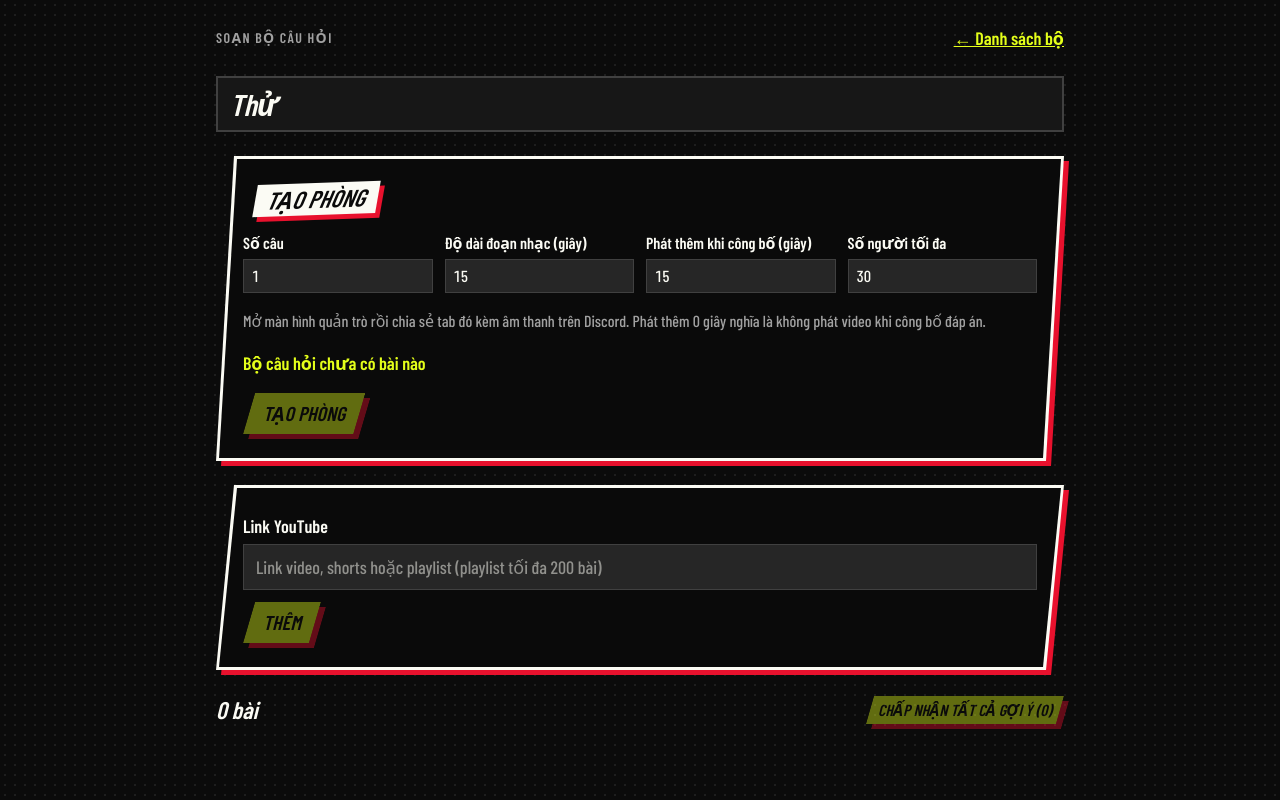
Test: SetEditor › lets the host create a room as soon as some suggestions are accepted
This screenshot has width=1280, height=800.
Type "https://www.youtube.com/playlist?list=PL123" into the field labelled "Link YouTube" at (640, 567), box [243,544,1037,590]
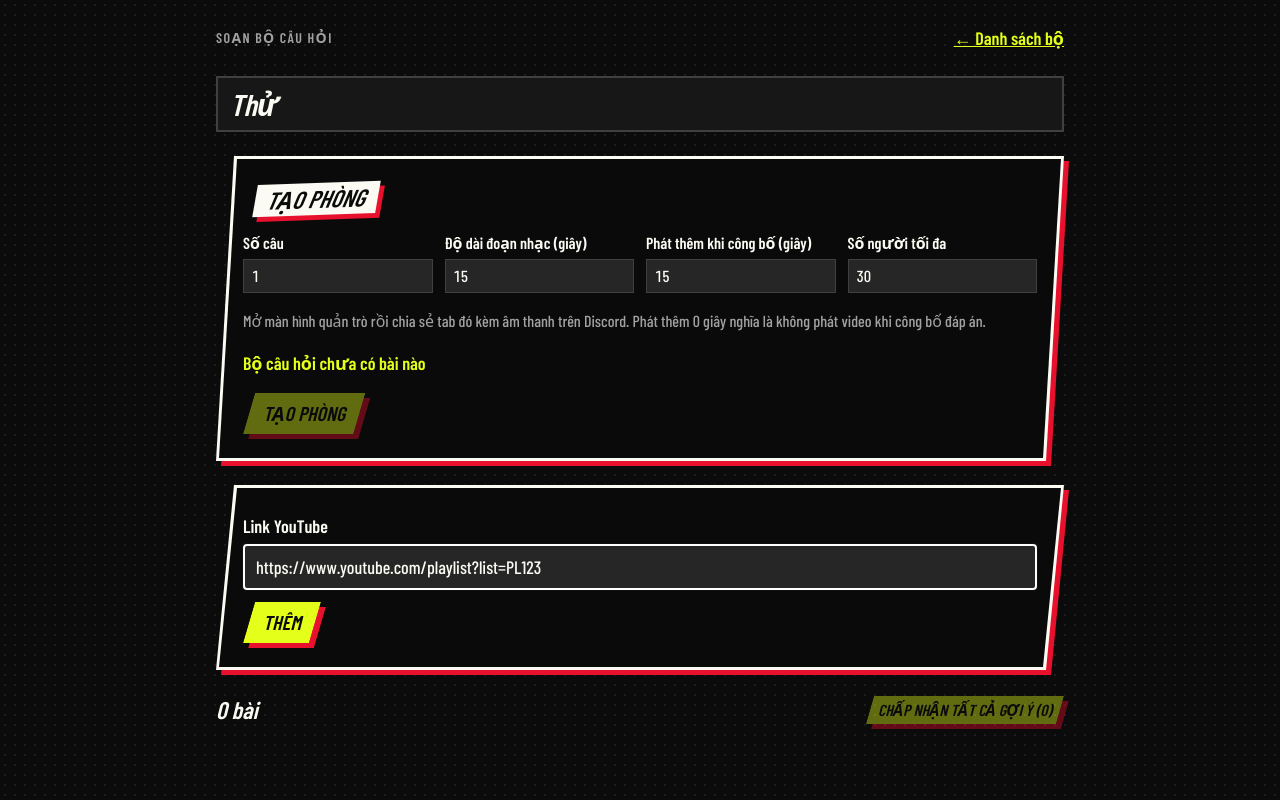
Click the button "Thêm" at (282, 622), box [243,602,321,643]
(page scrolled)
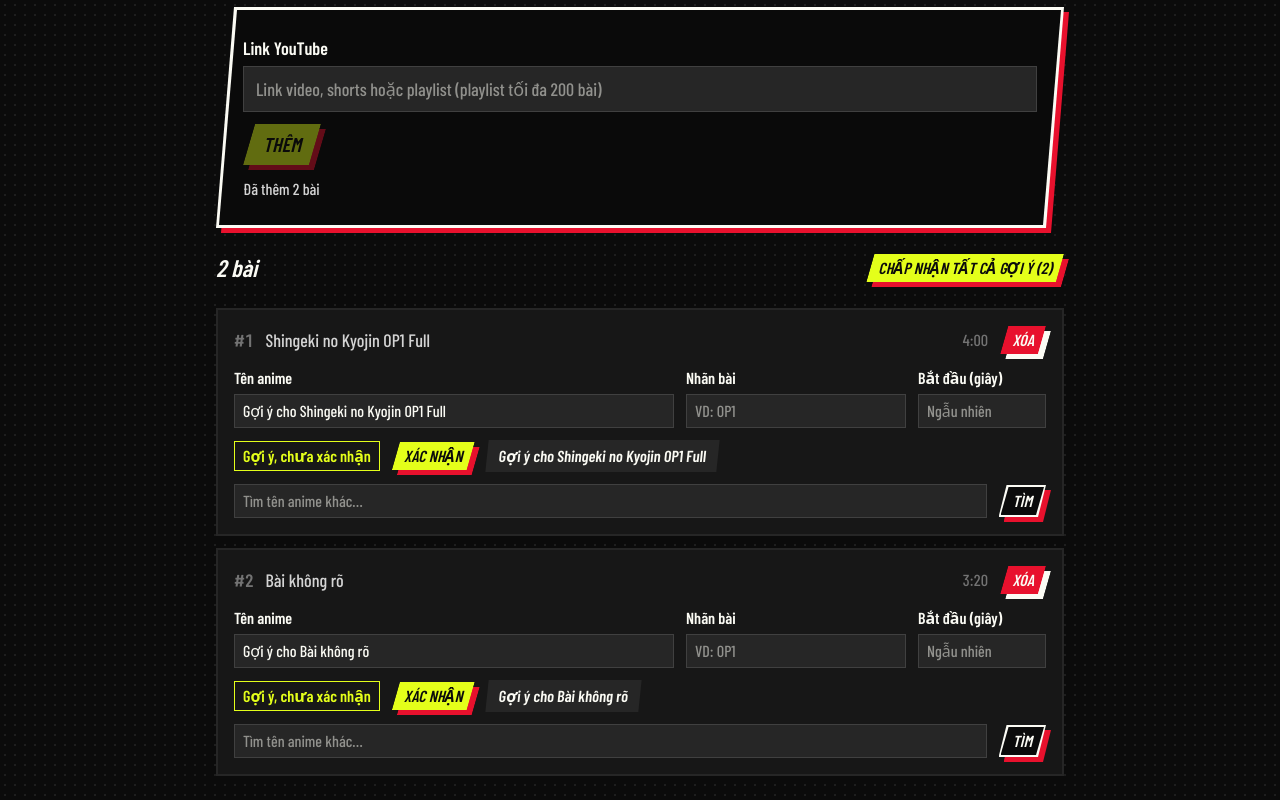
Result: the text "Gợi ý, chưa xác nhận" is shown 2 times at [234,441,380,471]; [234,681,380,711]
Click the 1st button "Xác nhận" at (433, 456), box [392,442,475,470]
(page scrolled)
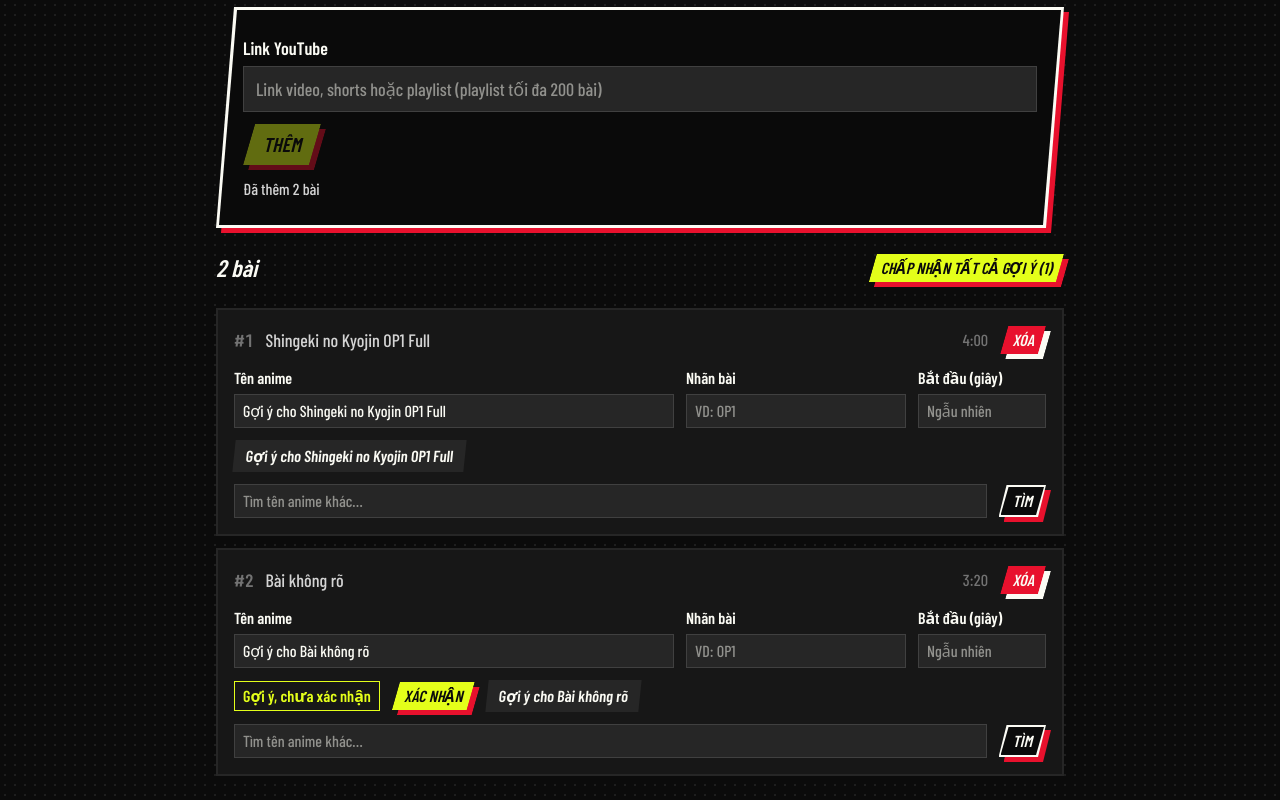
Click the button "Chấp nhận tất cả gợi ý (1)" at (966, 268), box [869,254,1064,282]
(page scrolled)
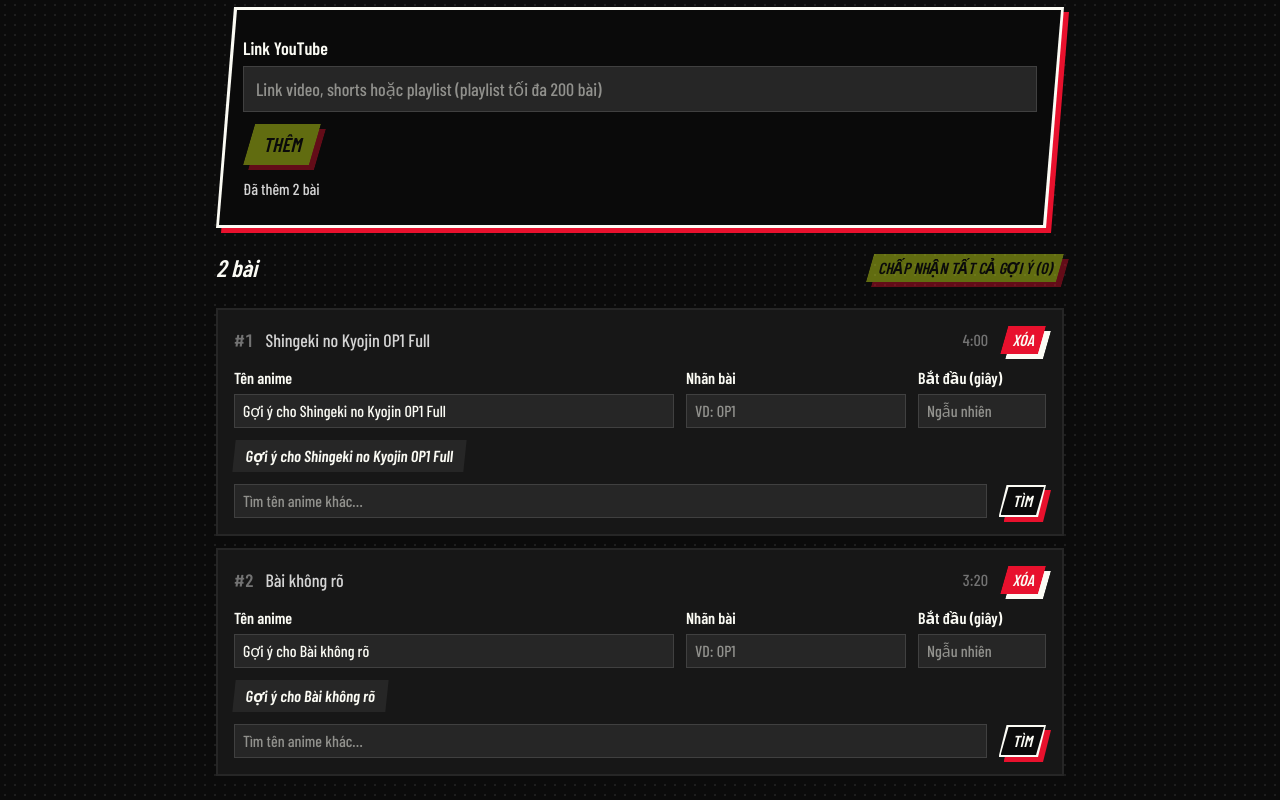
Result: the text "Gợi ý, chưa xác nhận" is gone
